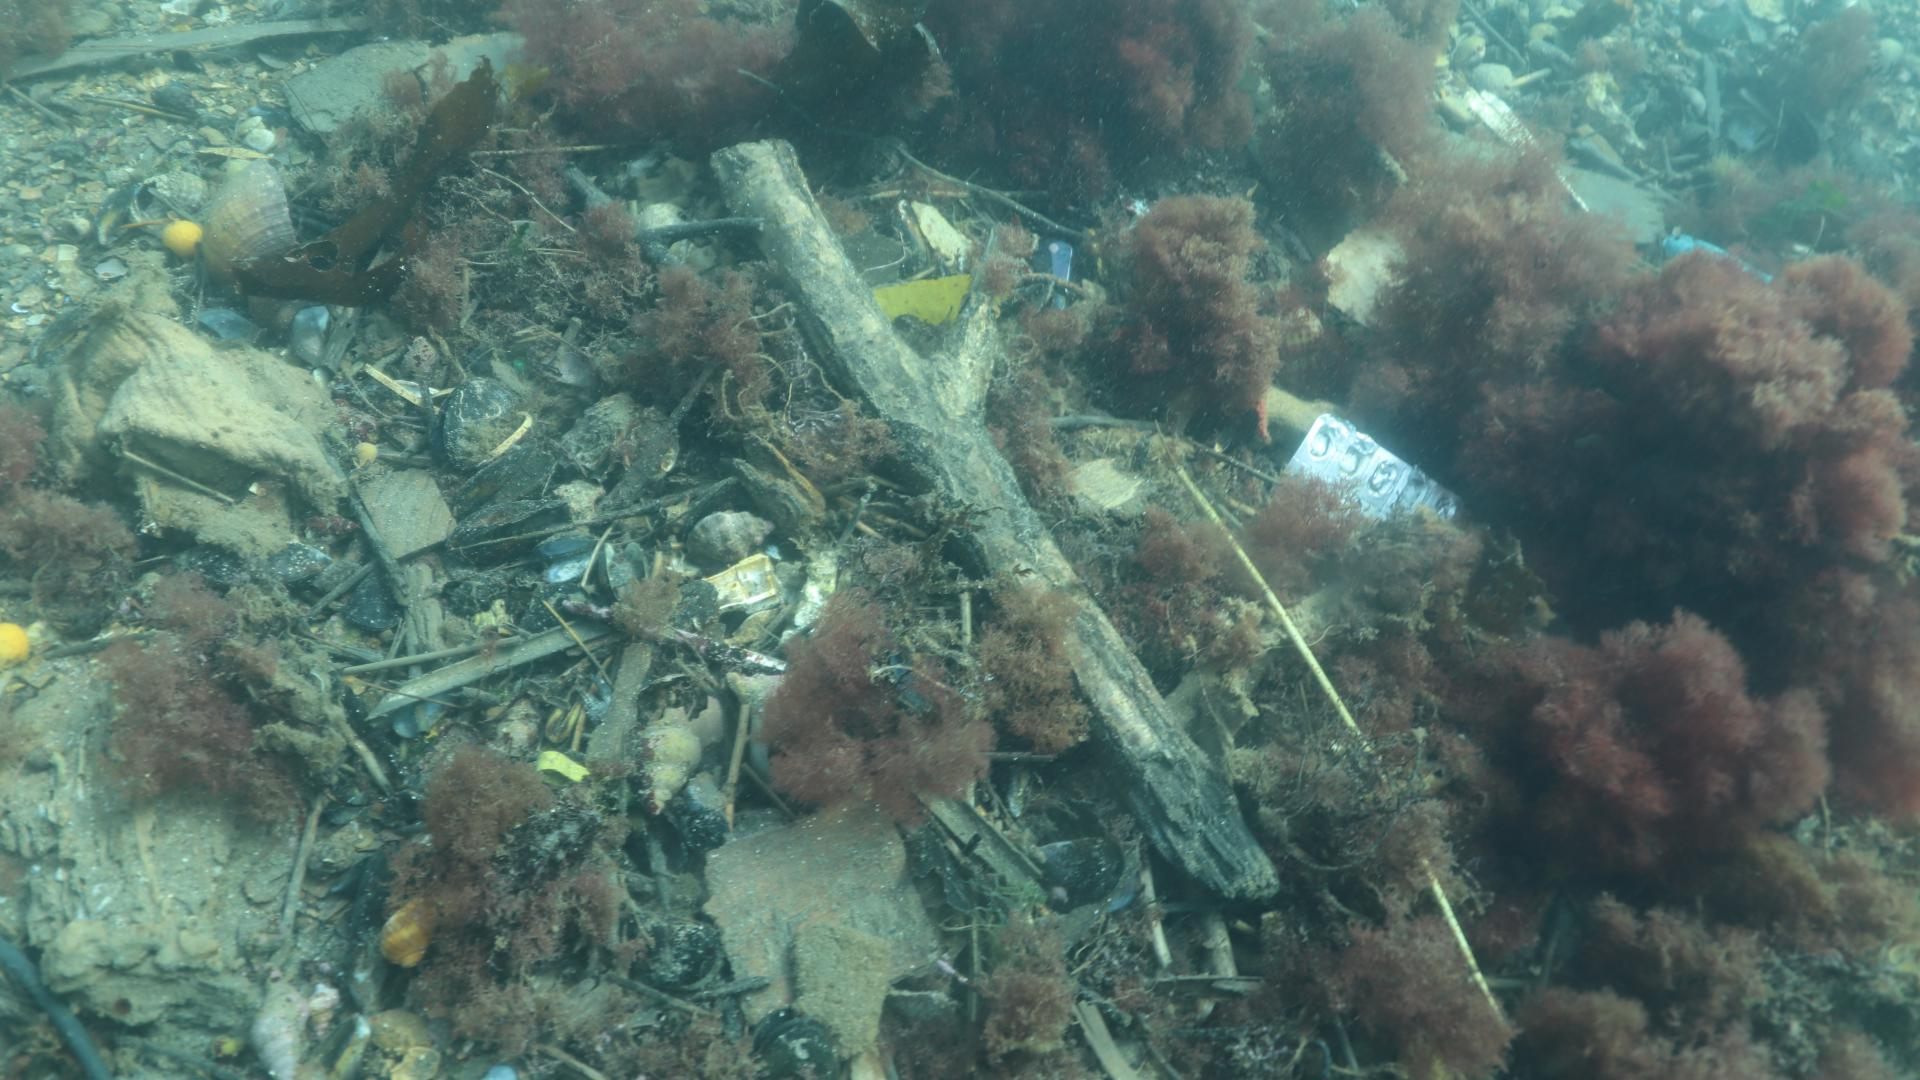wood: (704, 135, 1280, 905)
